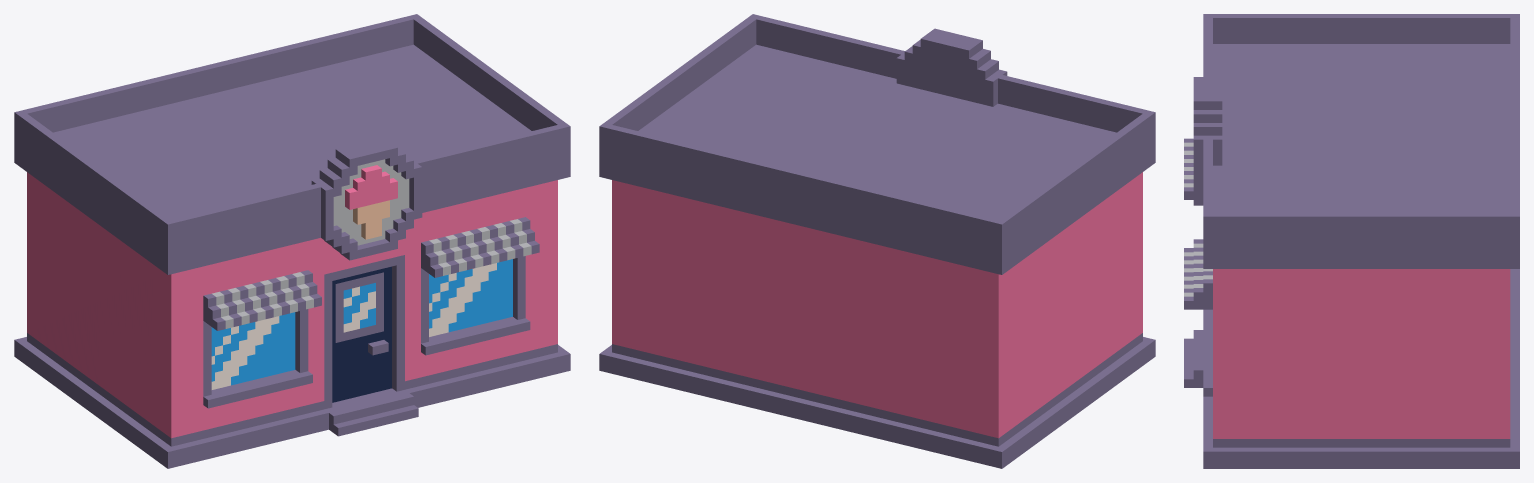
The model's file is icecream_shop_a.obj.
3 renders of one model, left to right at view 1: azimuth 30°, elevation 25°; view 2: azimuth 150°, elevation 25°; view 3: azimuth 270°, elevation 25°, orthographic. The views are drawn at different scales.
Size of the model in its own units: 5 by 3.2 by 3.5.
Materials: 1 (1 with a texture image).
